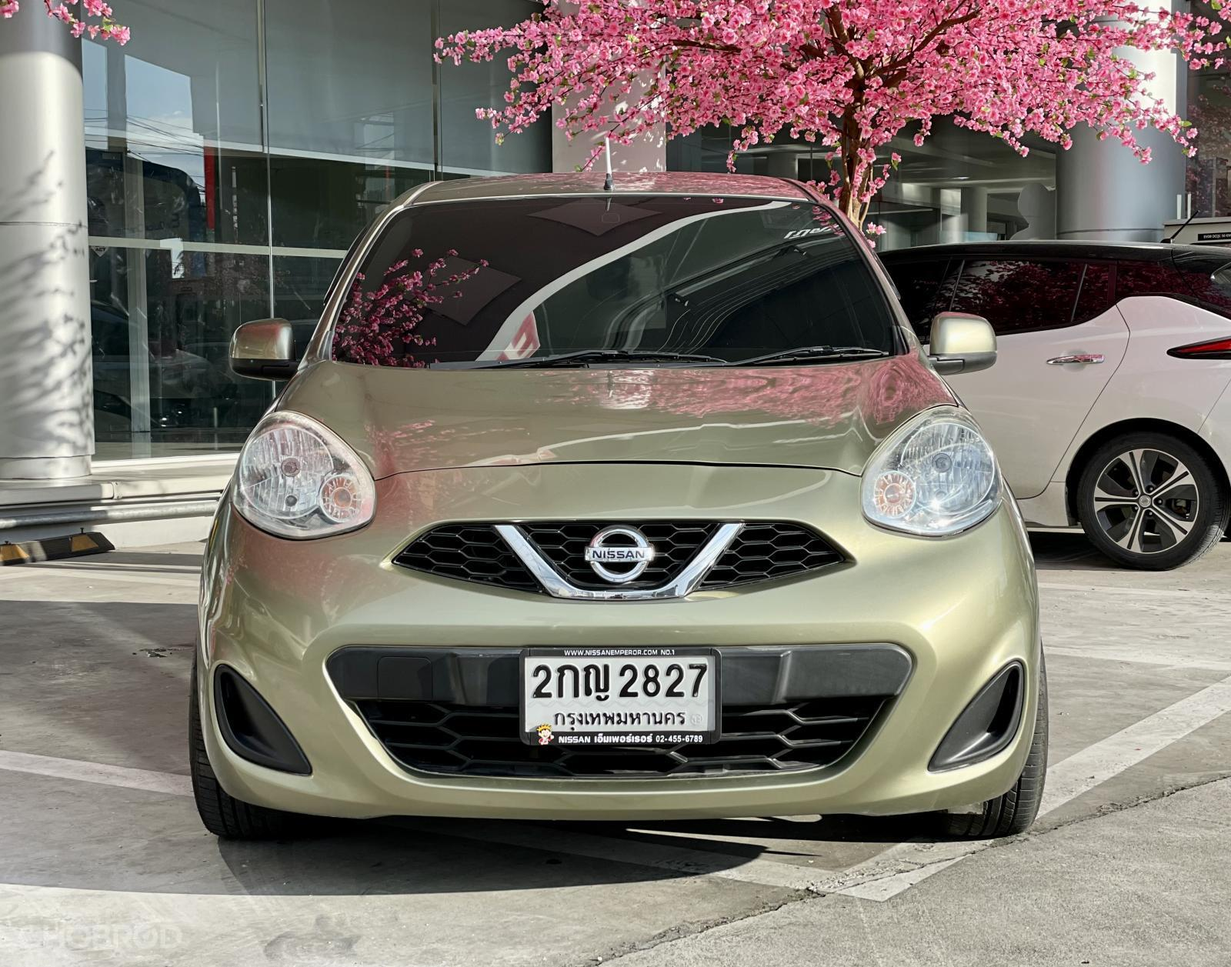license-plate: (517, 646, 727, 746)
